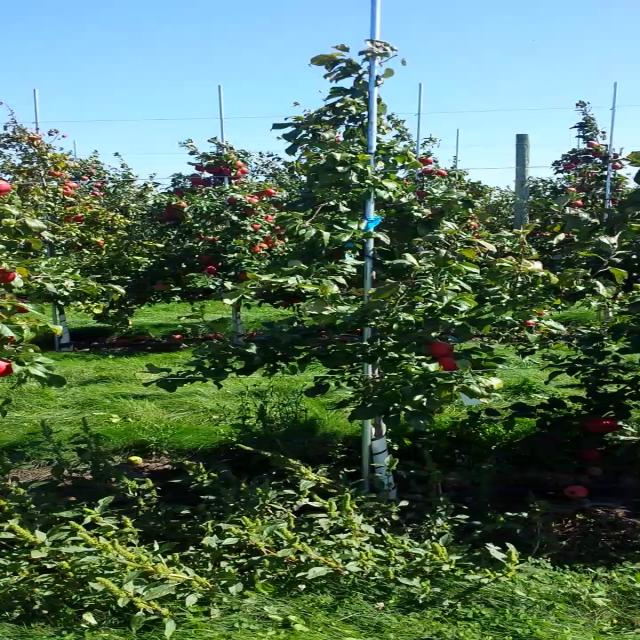apple: (582, 419, 624, 433), (430, 341, 454, 357), (436, 357, 460, 371), (0, 359, 12, 377), (0, 268, 14, 283), (15, 298, 29, 312), (1, 179, 11, 195), (7, 335, 15, 343)
